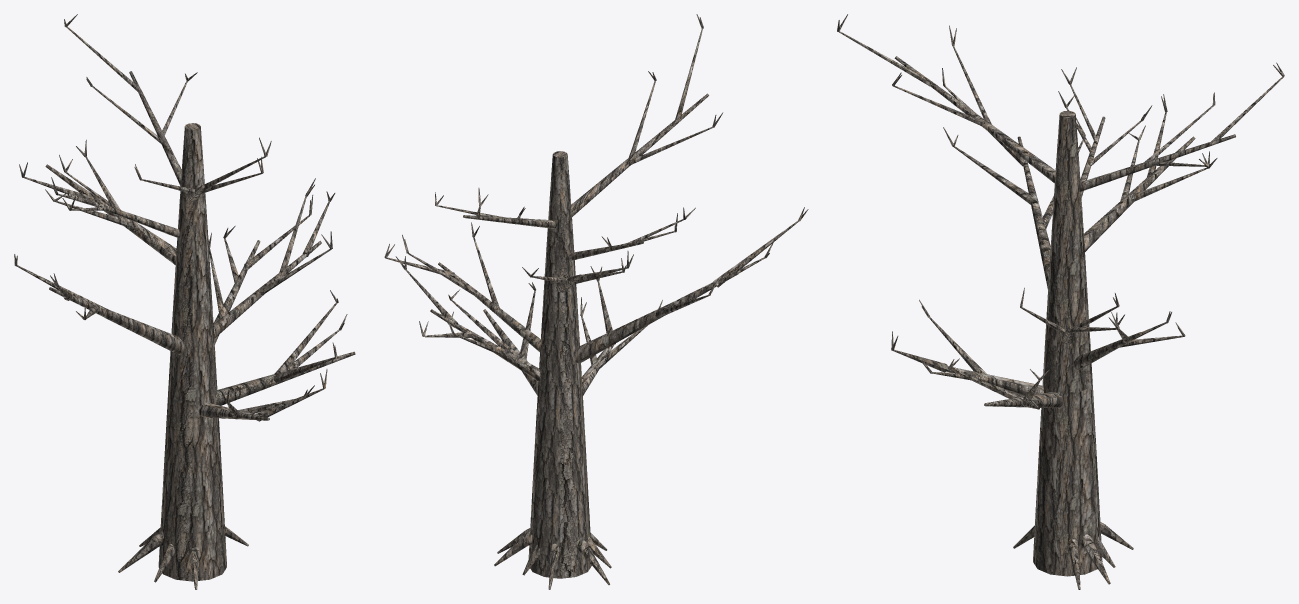
The model's file is uprooted-leaning-v03.glb.
The picture shows the model from 3 angles, left to right: view 1: azimuth 30°, elevation 25°; view 2: azimuth 150°, elevation 25°; view 3: azimuth 270°, elevation 25°; orthographic projection. The views are drawn at different scales.
Visible parts, largest first — view 1: dead-tree-lean; view 2: dead-tree-lean; view 3: dead-tree-lean.
Boxes of the visible parts, x1,y1,x2,y2 form: dead-tree-lean: (14,14,355,589); dead-tree-lean: (384,14,808,589); dead-tree-lean: (837,14,1284,589).
Bounding box in the file's own units: 6.81 × 9.18 × 7.07.
1 material, 1 textured.
